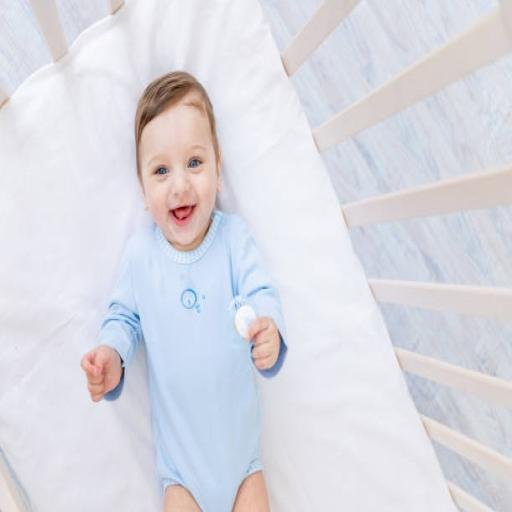baby: (82, 72, 286, 511)
crib: (0, 0, 511, 510)
